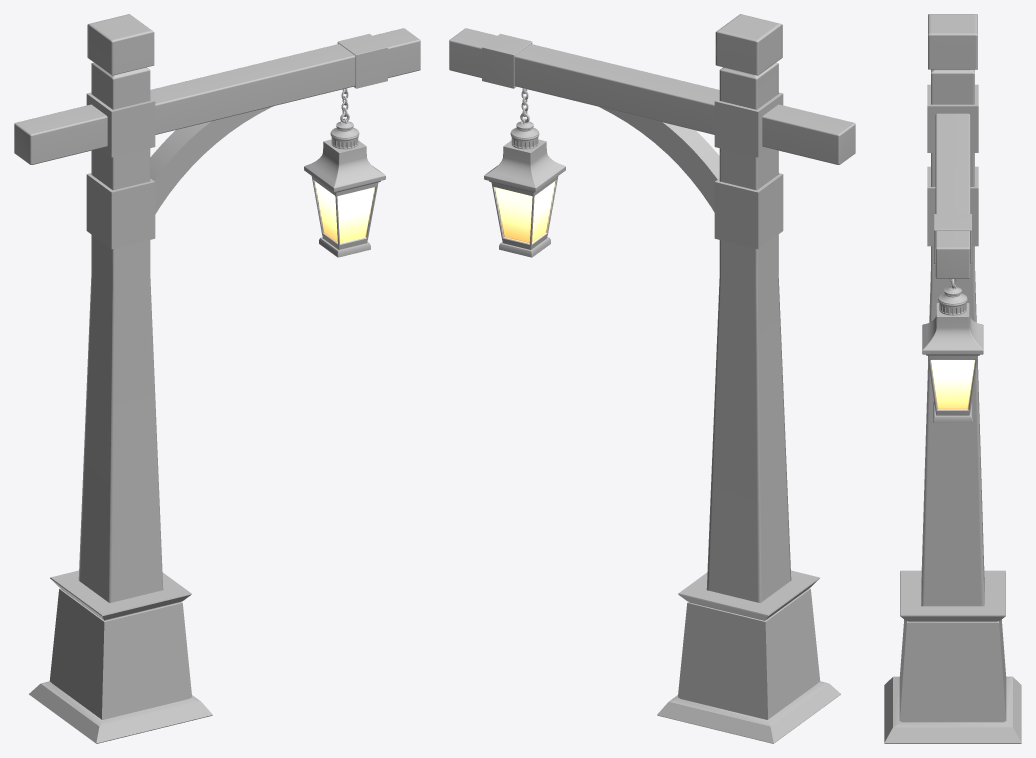
Rendered from Lantern.gltf.
The picture shows the model from 3 angles, left to right: view 1: azimuth 30°, elevation 25°; view 2: azimuth 150°, elevation 25°; view 3: azimuth 270°, elevation 25°; orthographic projection.
Visible parts, largest first — view 1: LanternPole_Body, LanternPole_Lantern; view 2: LanternPole_Body, LanternPole_Lantern; view 3: LanternPole_Body, LanternPole_Lantern.
Boxes of the visible parts, x1,y1,x2,y2 form: LanternPole_Body: [14, 14, 420, 743]; LanternPole_Lantern: [304, 113, 385, 257]; LanternPole_Body: [449, 14, 855, 743]; LanternPole_Lantern: [484, 113, 565, 257]; LanternPole_Body: [884, 14, 1021, 743]; LanternPole_Lantern: [922, 279, 983, 422].
Size of the model in its own units: 15.49 by 25.66 by 4.63.
